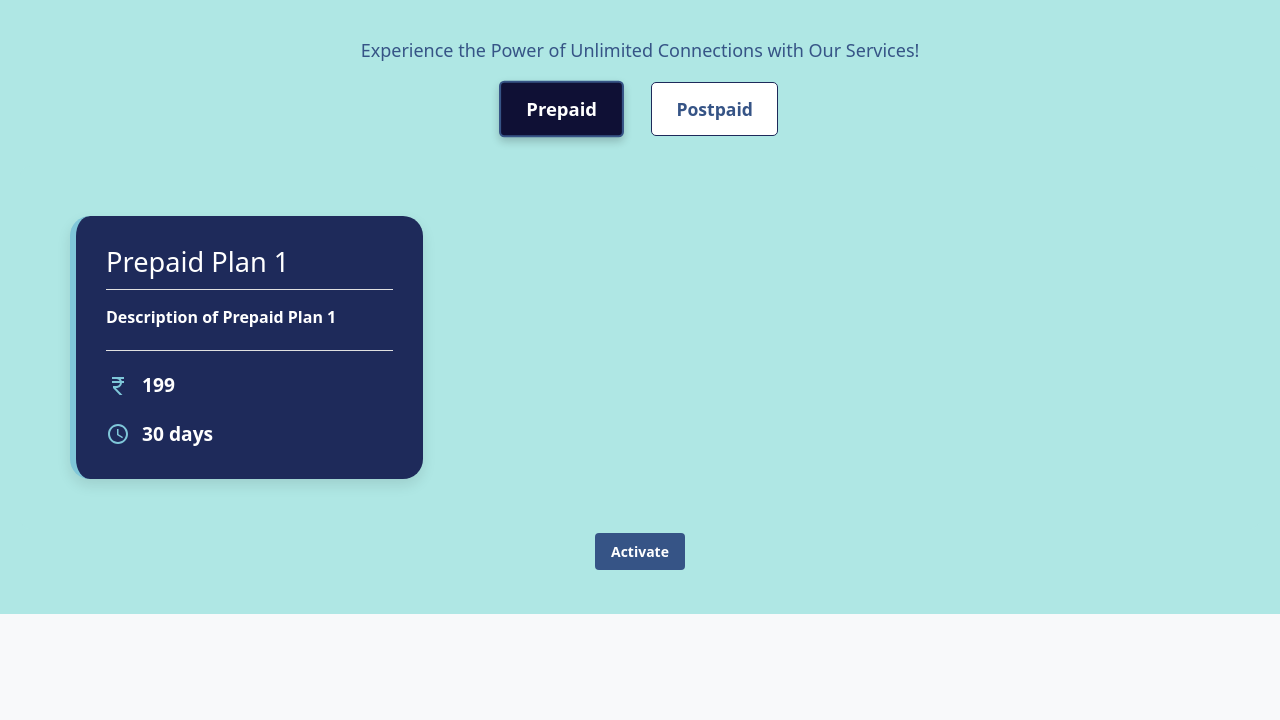
Test: ServicePlans Component › displays the correct postpaid plans when "Postpaid" is selected
Expected: the heading "Prepaid Plan 1" is shown, [106,246,393,290]
Click the button "Postpaid".
click(715, 109)  # box [651,82,778,136]
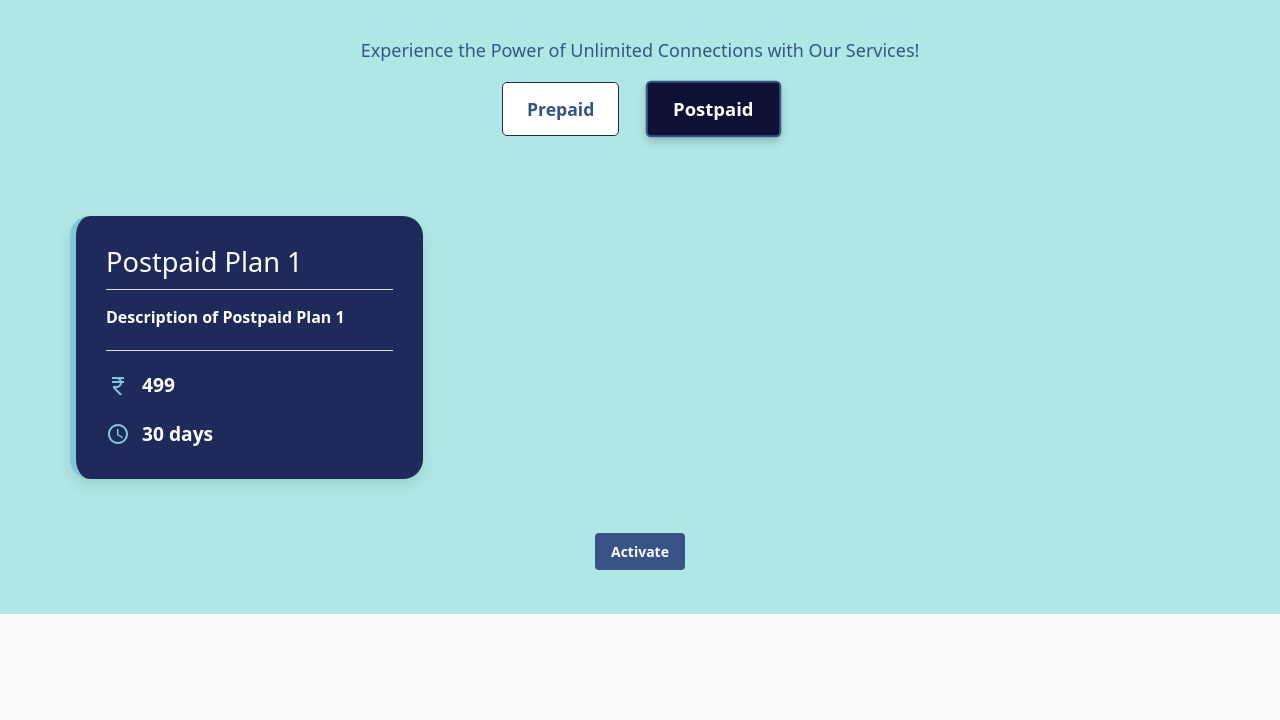
Result: the heading "Postpaid Plan 1" is shown at [106,246,393,290]
Result: the heading "Prepaid Plan 1" is gone
